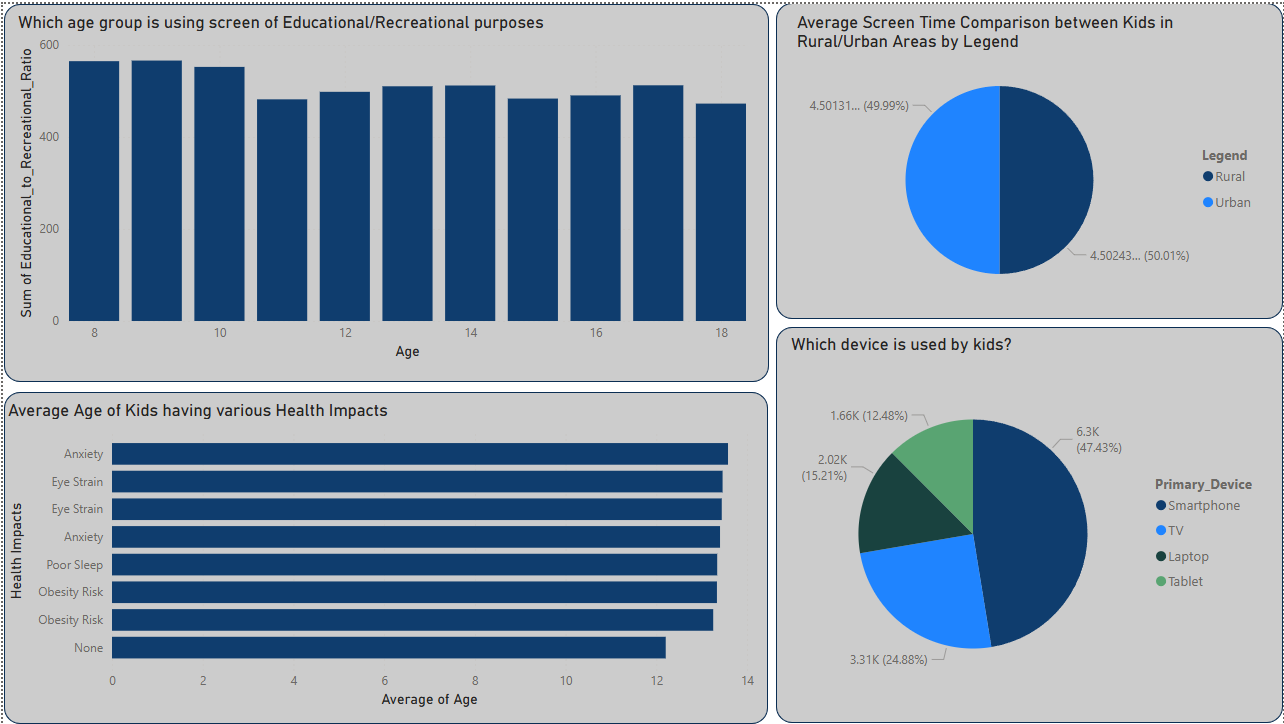

The page's visual inventory and layout, read from the dashboard file:
{"tool":"powerbi","page":{"name":"Page 2","canvas":[1280,720],"ordinal":1},"visuals":[{"type":"group","id":"g1","title":"Group 1","box":[1,-1,1278.7,721.4],"z":0},{"type":"shape","box":[1,0.3,765,377.5],"z":1000,"group":"g1"},{"type":"clusteredBarChart","title":"Average Age of Kids having various Health Impacts","fields":{"Category":["Indian_Kids_Screen_Time.Health_Impacts"],"Y":["Avg(Indian_Kids_Screen_Time.Age)"]},"box":[0,396.2,756.2,311.2],"z":1000},{"type":"shape","box":[773.4,-1,506.2,316.2],"z":2000,"group":"g1"},{"type":"pieChart","fields":{"Category":["Indian_Kids_Screen_Time.Urban_or_Rural"],"Y":["Avg(Indian_Kids_Screen_Time.Avg_Daily_Screen_Time_hr)"]},"box":[788.8,7.5,481.2,298.8],"z":2000},{"type":"columnChart","title":"Which age group is using screen of Educational/Recreational purposes","fields":{"Category":["Indian_Kids_Screen_Time.Age"],"Y":["Sum(Indian_Kids_Screen_Time.Educational_to_Recreational_Ratio)"]},"box":[10,7.5,737.5,352.5],"z":3000},{"type":"pieChart","title":"Which device is used by kids?","fields":{"Category":["Indian_Kids_Screen_Time.Primary_Device"],"Y":["CountNonNull(Indian_Kids_Screen_Time.Primary_Device)"]},"box":[782.5,330,486.2,381.2],"z":4000},{"type":"shape","box":[1.2,387.9,763.8,332.5],"z":4000,"group":"g1"},{"type":"shape","box":[773.4,326,506.2,391.2],"z":5000,"group":"g1"}]}

Visuals, with their boxes in screenshot pixels (x1, y1, x2, y2), scaled from the page's 1280x720 canvas onto the 1284x724 screenshot:
"Group 1" group: detection(1, 0, 1283, 723)
shape: detection(1, 0, 768, 380)
"Average Age of Kids having various Health Impacts" clusteredBarChart: detection(0, 398, 759, 711)
shape: detection(776, 0, 1283, 317)
pieChart - Indian_Kids_Screen_Time.Urban_or_Rural x Avg(Indian_Kids_Screen_Time.Avg_Daily_Screen_Time_hr): detection(791, 8, 1274, 308)
"Which age group is using screen of Educational/Recreational purposes" columnChart: detection(10, 8, 750, 362)
"Which device is used by kids?" pieChart: detection(785, 332, 1273, 715)
shape: detection(1, 390, 767, 723)
shape: detection(776, 328, 1283, 721)
